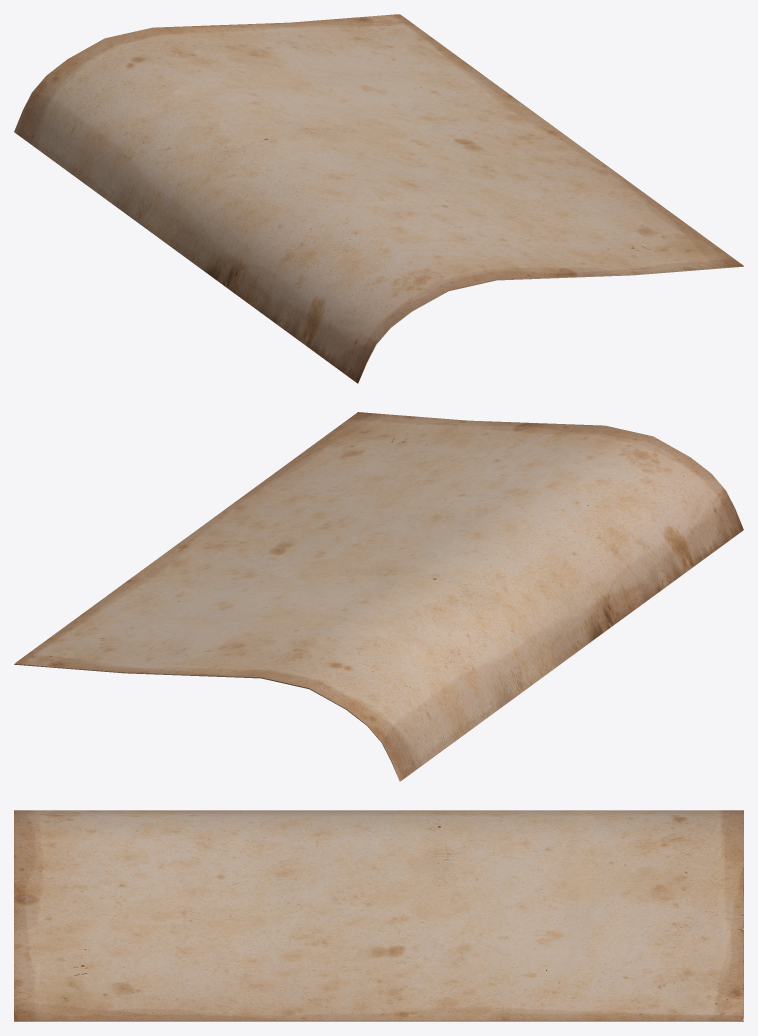
Rendered from BookPage1.FBX.
The picture shows the model from 3 angles, top to bottom: view 1: azimuth 30°, elevation 25°; view 2: azimuth 150°, elevation 25°; view 3: azimuth 270°, elevation 25°; orthographic projection. The views are drawn at different scales.
Parts seen in each view (by area): view 1: PageR1; view 2: PageR1; view 3: PageR1.
Boxes of the visible parts, x1,y1,x2,y2 form: PageR1: (14, 14, 743, 383); PageR1: (14, 412, 743, 781); PageR1: (14, 810, 743, 1021).
Size of the model in its own units: 19.43 by 3.44 by 30.
